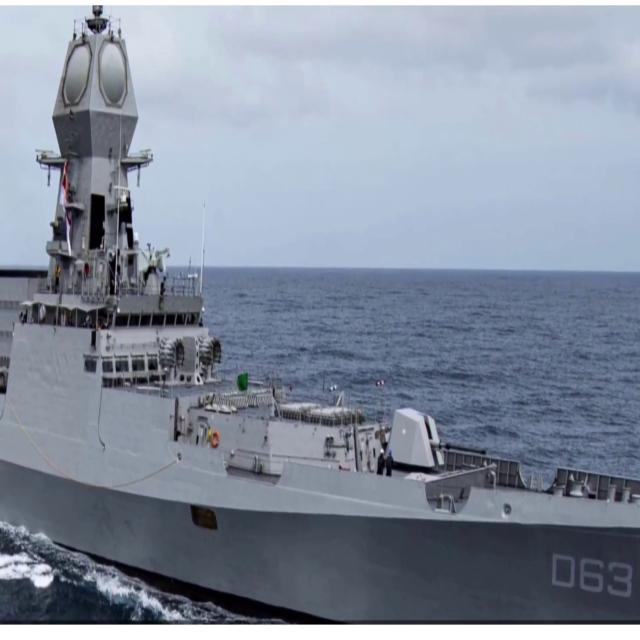OCR: (550, 548, 638, 602)
